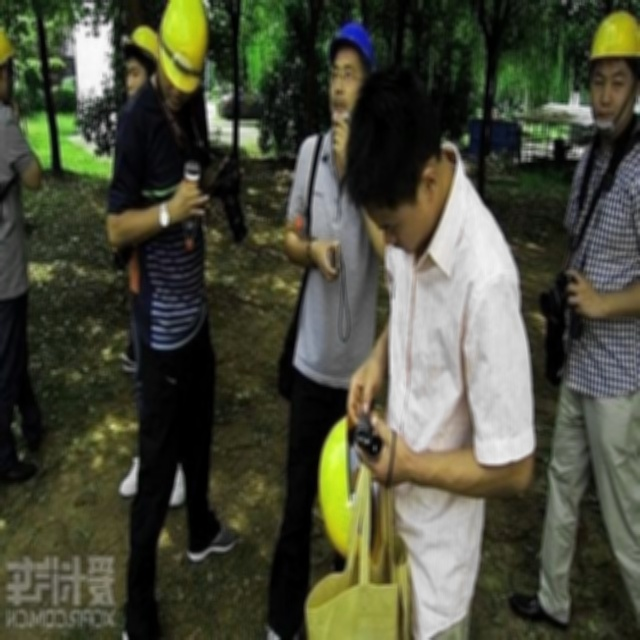Con_Casco: (589, 12, 640, 134), (158, 0, 207, 101), (124, 27, 156, 100)
Sin_Casco_Mascarrilla: (348, 62, 437, 247)
